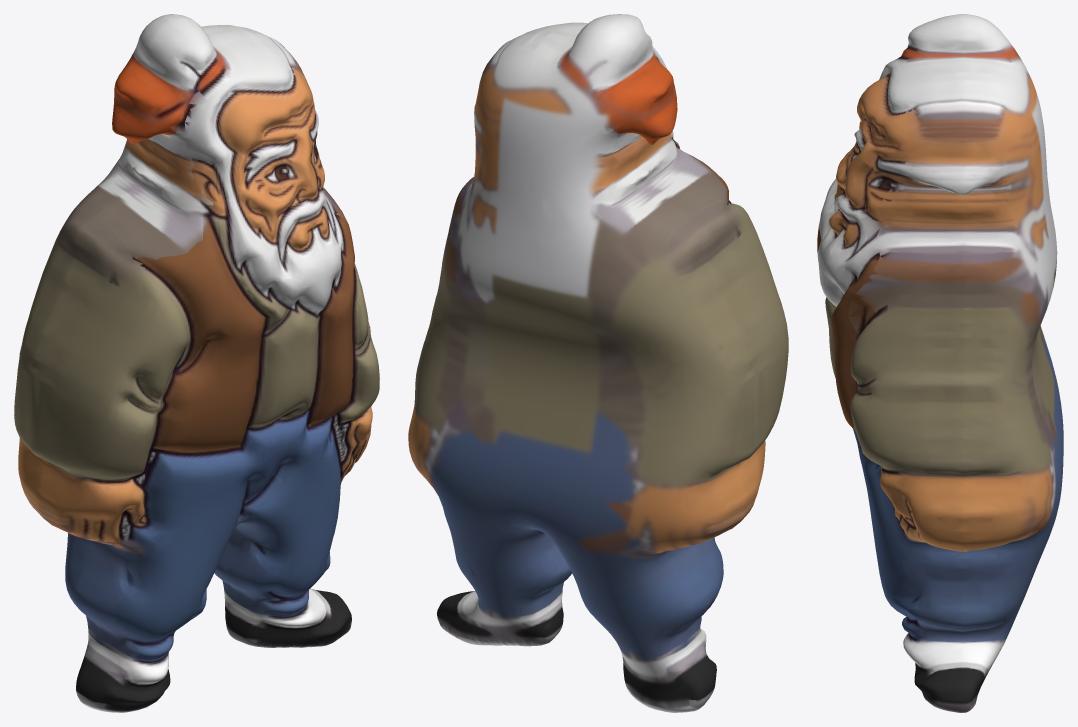
File: NPC_01_爷爷.glb
3 renders of one model, left to right at view 1: azimuth 30°, elevation 25°; view 2: azimuth 150°, elevation 25°; view 3: azimuth 270°, elevation 25°, orthographic. The views are drawn at different scales.
Parts seen in each view (by area): view 1: grandpa; view 2: grandpa; view 3: grandpa.
Part boxes in pixels (x1,y1,x2,y2): grandpa: (14, 14, 379, 712); grandpa: (408, 14, 788, 712); grandpa: (817, 14, 1063, 712).
Size of the model in its own units: 1.42 by 2.81 by 0.9741.
Materials: 1 (1 with a texture image).
